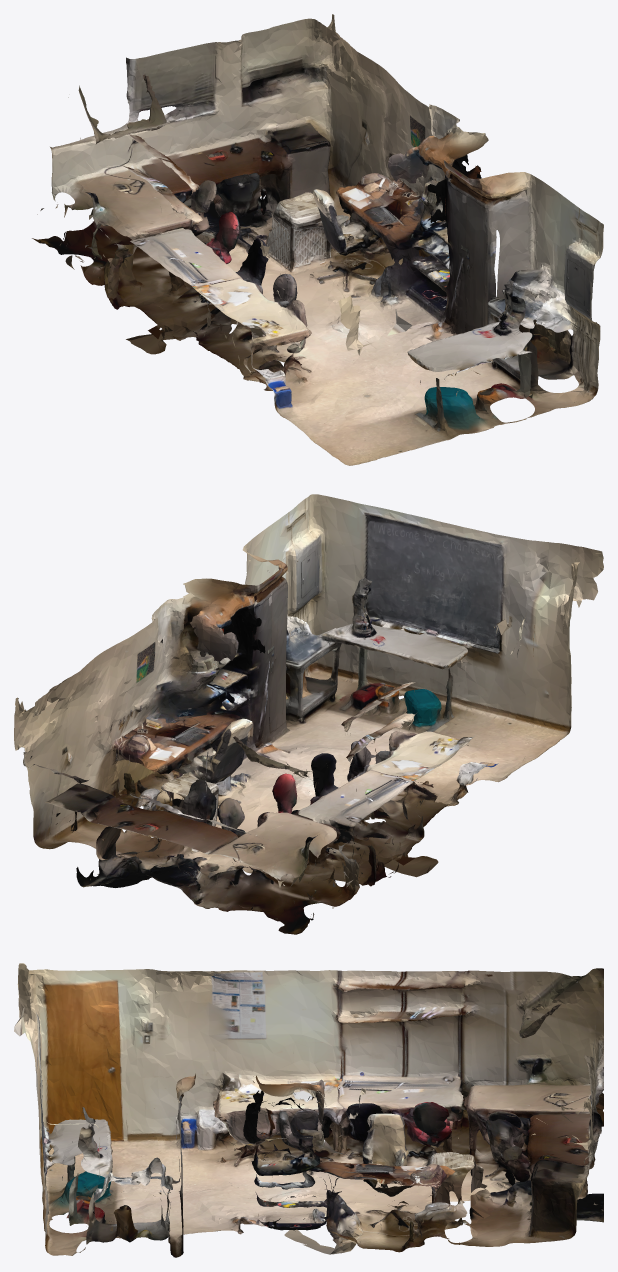
The model's file is scan1_145.trimmed.glb.
3 views of the same model, one above another, from view 1: azimuth 30°, elevation 25°; view 2: azimuth 150°, elevation 25°; view 3: azimuth 270°, elevation 25° (orthographic). The views are drawn at different scales.
Bounding box in the file's own units: 4.25 × 2.46 × 7.25.
4 materials, 4 textured.
